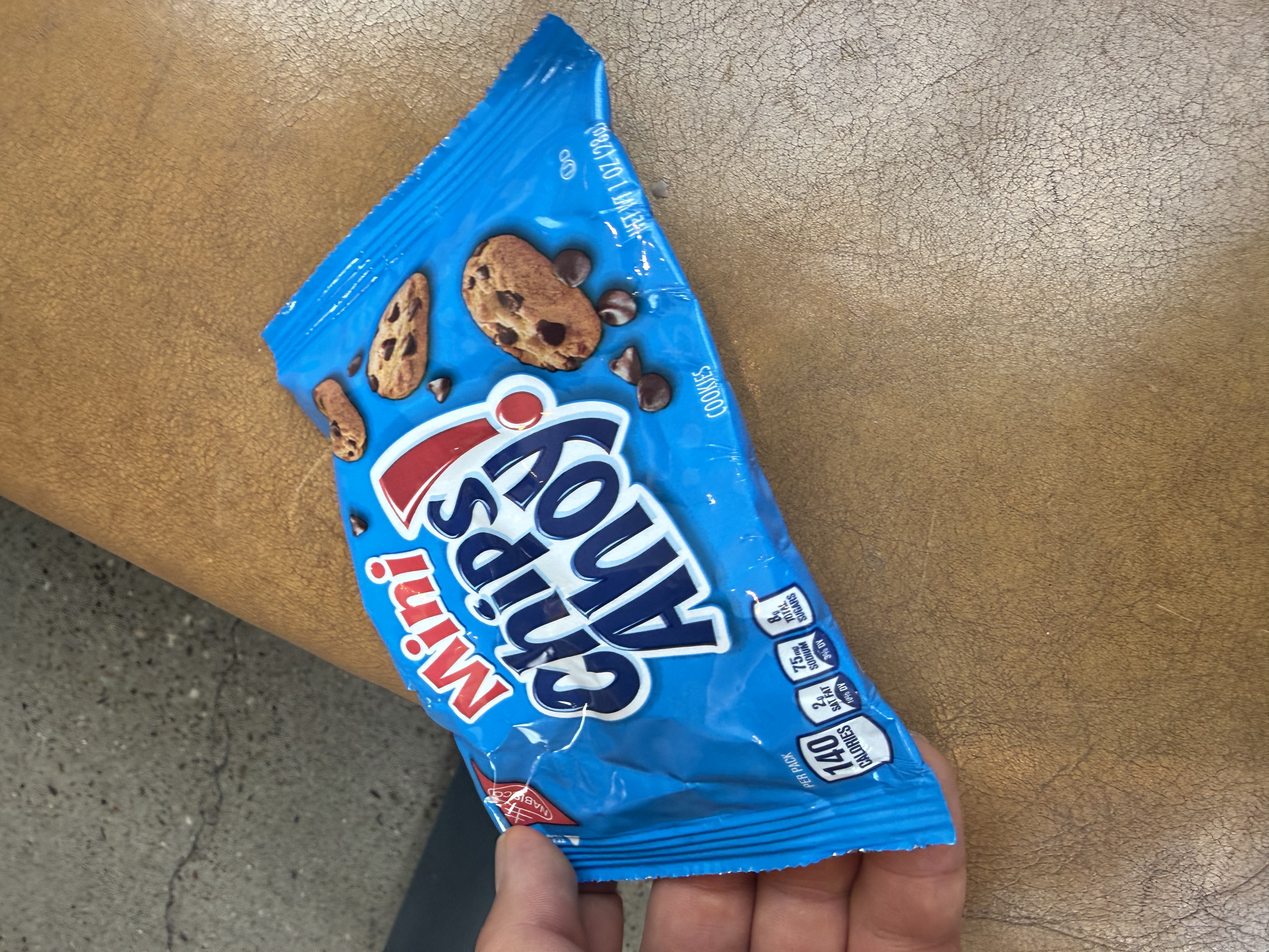chips_ahoy: (187, 286, 616, 952)
